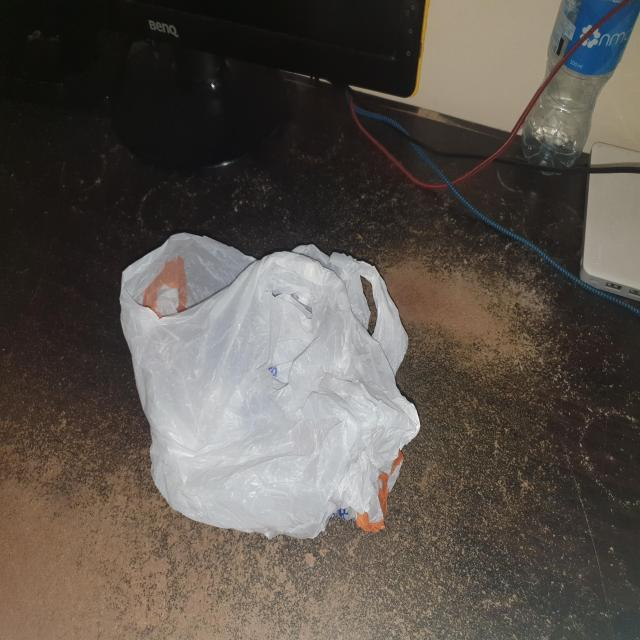plastic bag: (112, 216, 424, 551)
